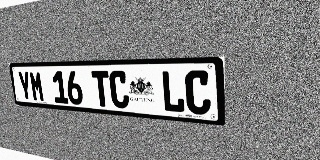1: (51, 71, 69, 104)
6: (65, 71, 84, 105)
C: (185, 70, 211, 115), (109, 71, 130, 109)
L: (161, 70, 185, 113)
M: (29, 71, 45, 102)
T: (91, 71, 111, 107)
Y: (17, 71, 33, 101)
